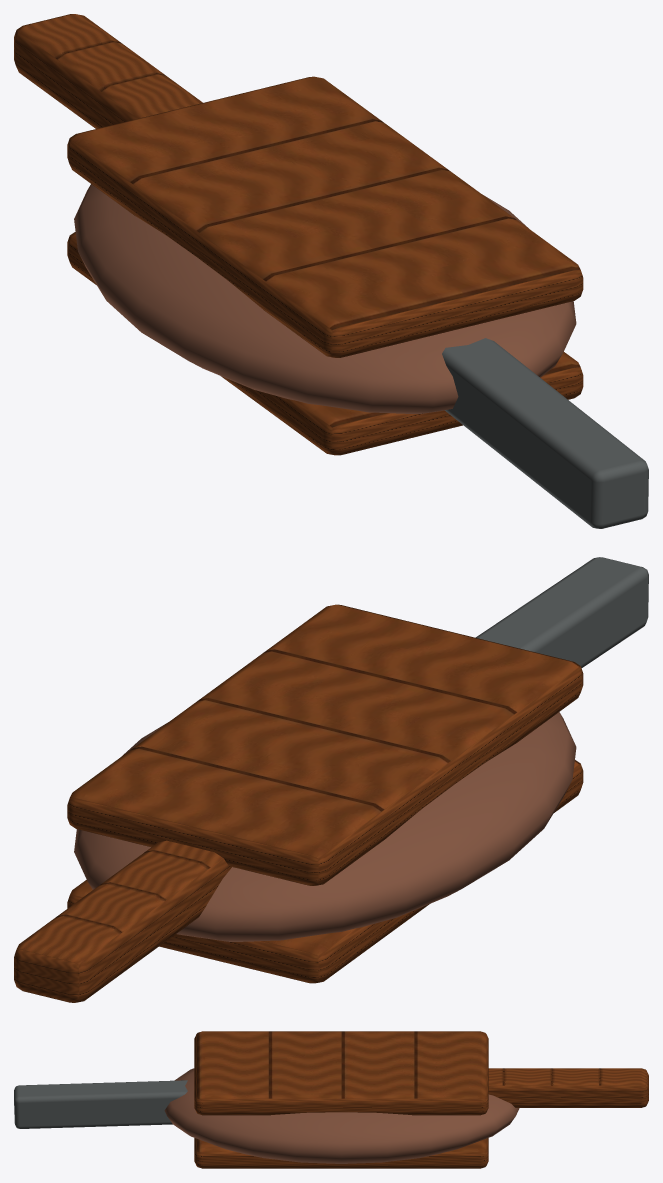
Rendered from adventurers-tavern-and-guild-hall-bellows-8c735e00__24725.glb.
The picture shows the model from 3 angles, top to bottom: view 1: azimuth 30°, elevation 25°; view 2: azimuth 150°, elevation 25°; view 3: azimuth 270°, elevation 25°; orthographic projection. The views are drawn at different scales.
Visible parts, largest first — view 1: bellows; view 2: bellows; view 3: bellows.
Part boxes in pixels (box(x1,y1,x2,y2)): bellows: box(14, 14, 648, 528); bellows: box(14, 557, 648, 1002); bellows: box(14, 1031, 648, 1168).
Bounding box in the file's own units: 0.368 × 0.125 × 0.9706.
3 materials, 1 textured.
